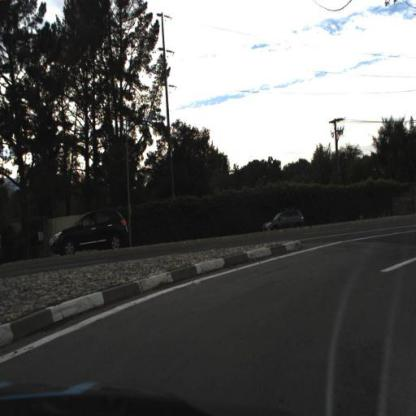car: (49, 209, 129, 258), (262, 207, 306, 236)
